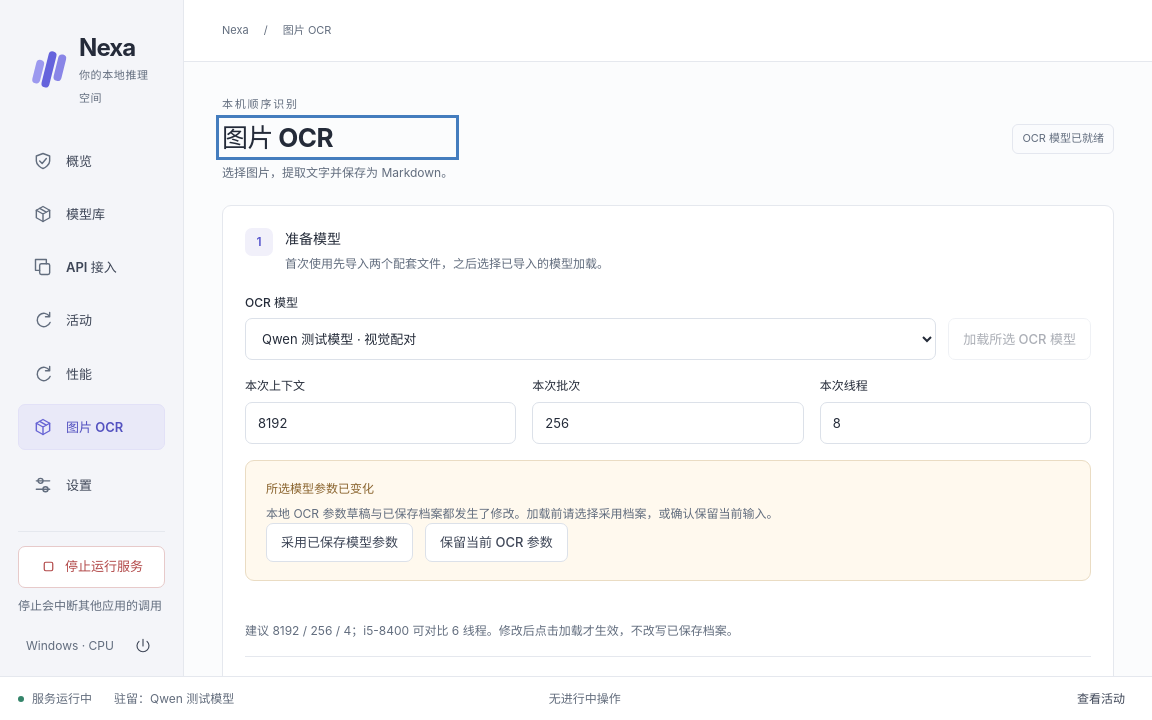
restored OCR and chat controls › restores legal low context/high thread profile values and requires explicit conflict resolution
The image size is (1152, 720).
Expected: the text "所选模型参数已变化" is shown, [266, 481, 374, 496]
Expected: the number field named "OCR 加载线程" holds "8", [820, 402, 1091, 444]
Click the button "采用已保存模型参数": (340, 542) [266, 523, 413, 562]
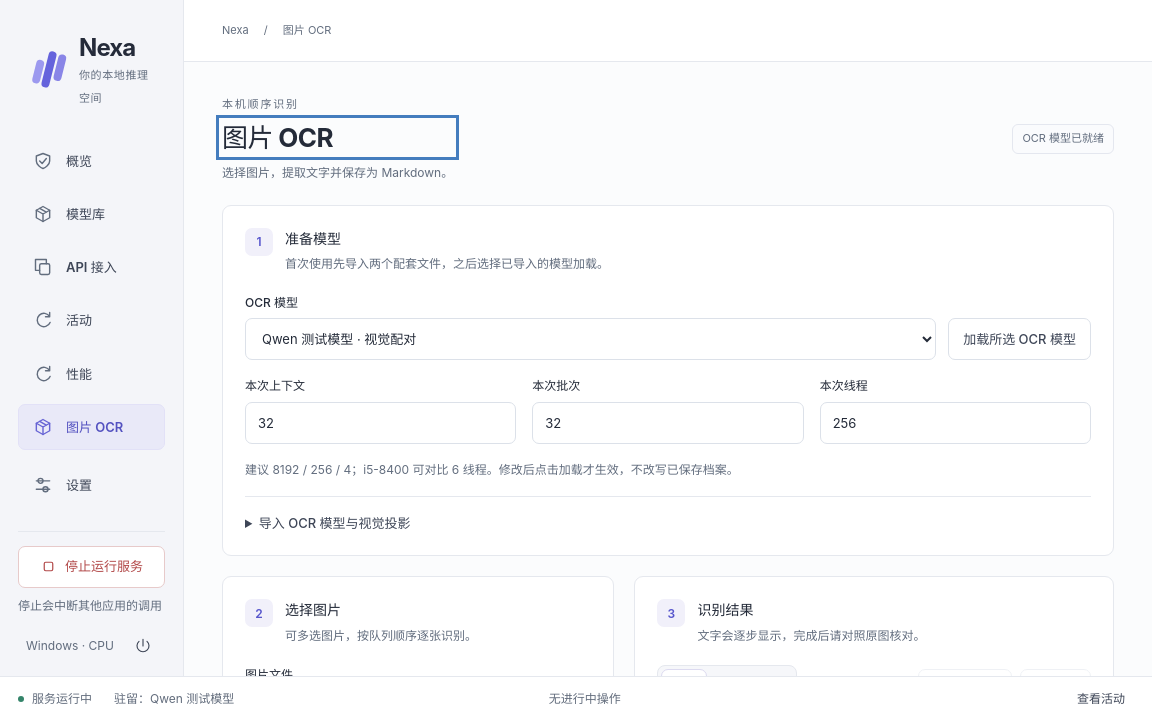
Result: the number field named "OCR 加载上下文" holds "32" at [245, 402, 516, 444]
Result: the number field named "OCR 加载线程" holds "256" at [820, 402, 1091, 444]
Result: the button "加载所选 OCR 模型" is enabled at [948, 318, 1091, 360]
